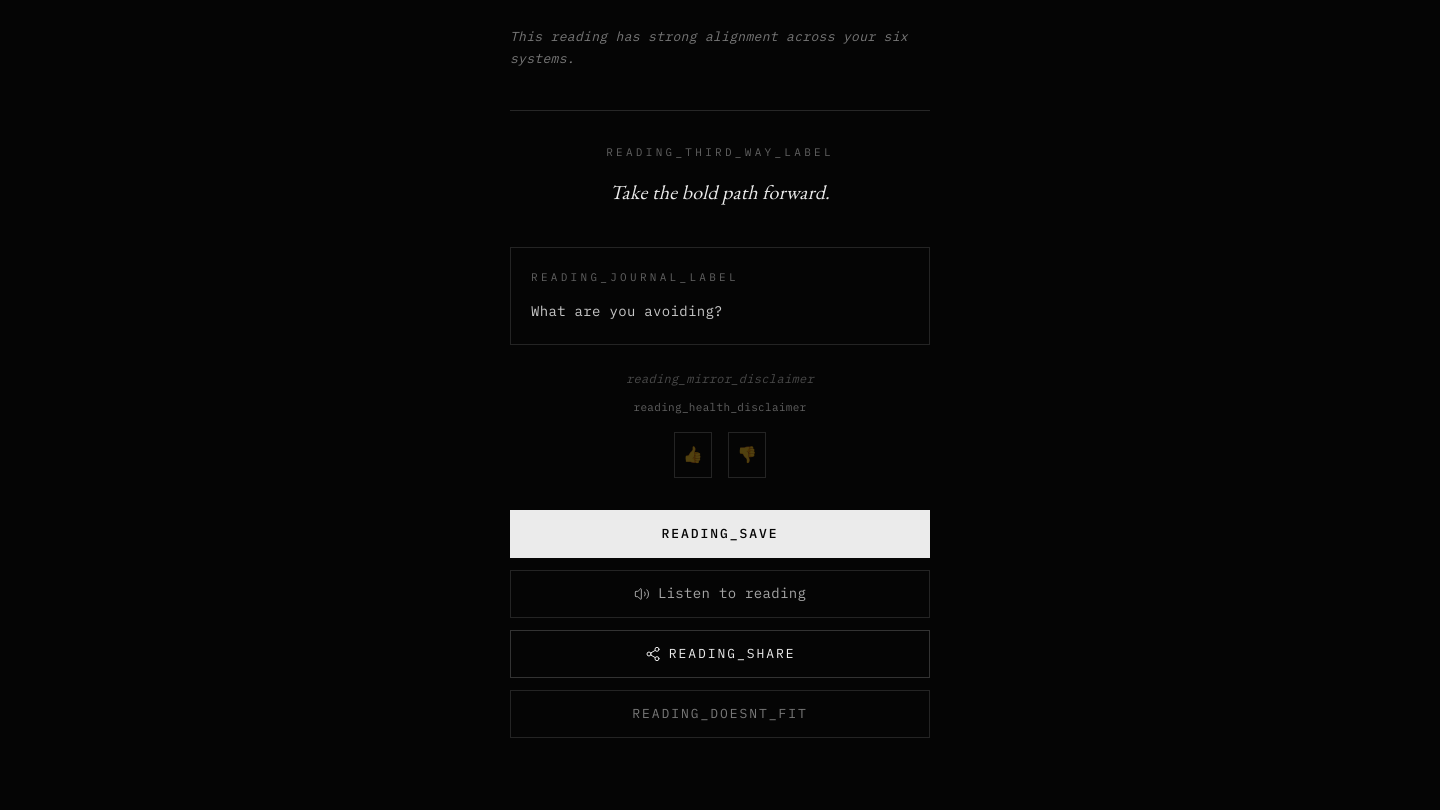
Test: Regeneration Feedback Pipeline › ReadingOutput → onRegenerate callback › closes the feedback modal after clicking Regenerate
(page scrolled)
Click the button "reading_doesnt_fit": (720, 714) [510,690,930,738]
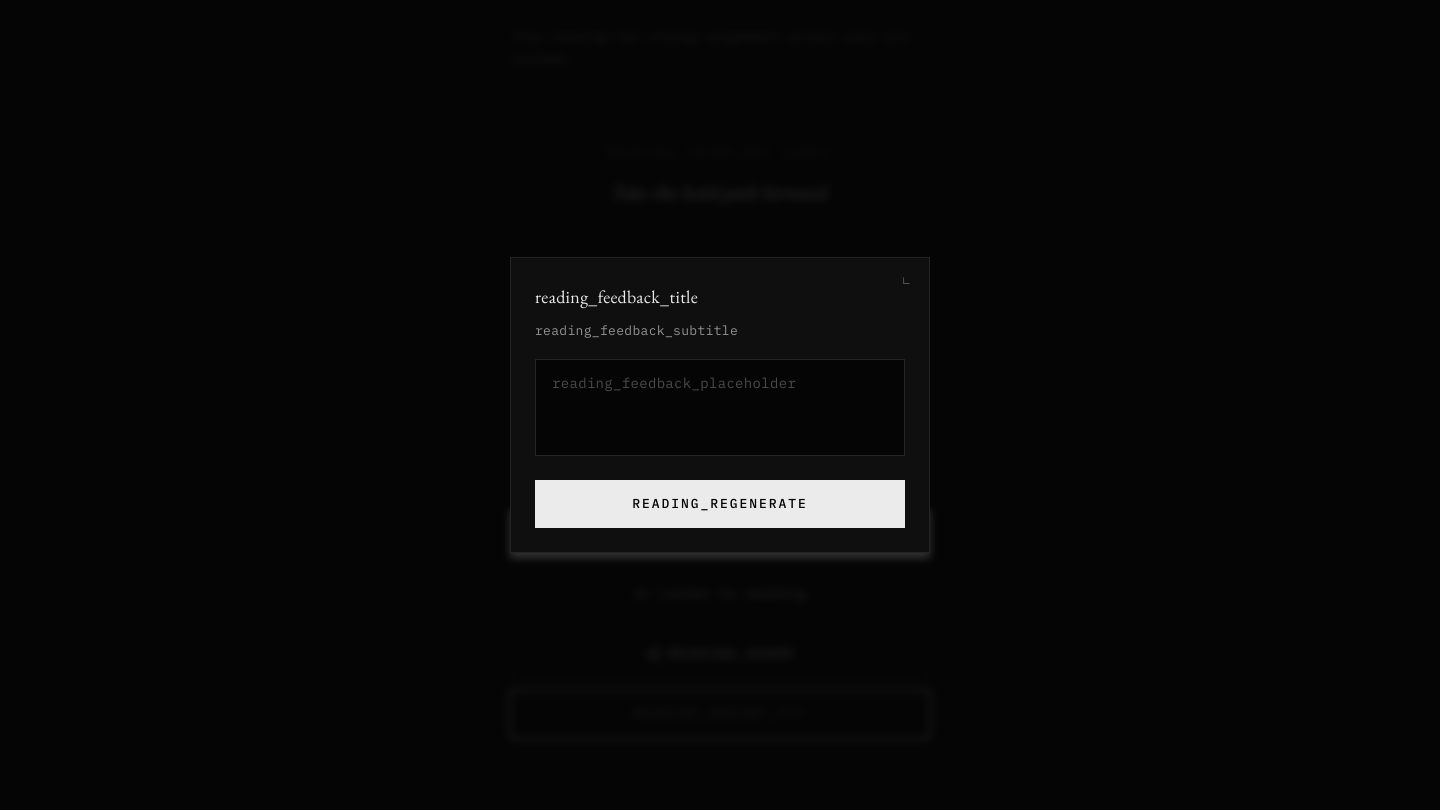
Expected: the text "reading_feedback_title" is shown, [535,285,698,308]
Click the button "reading_regenerate": (720, 504) [535,480,905,528]
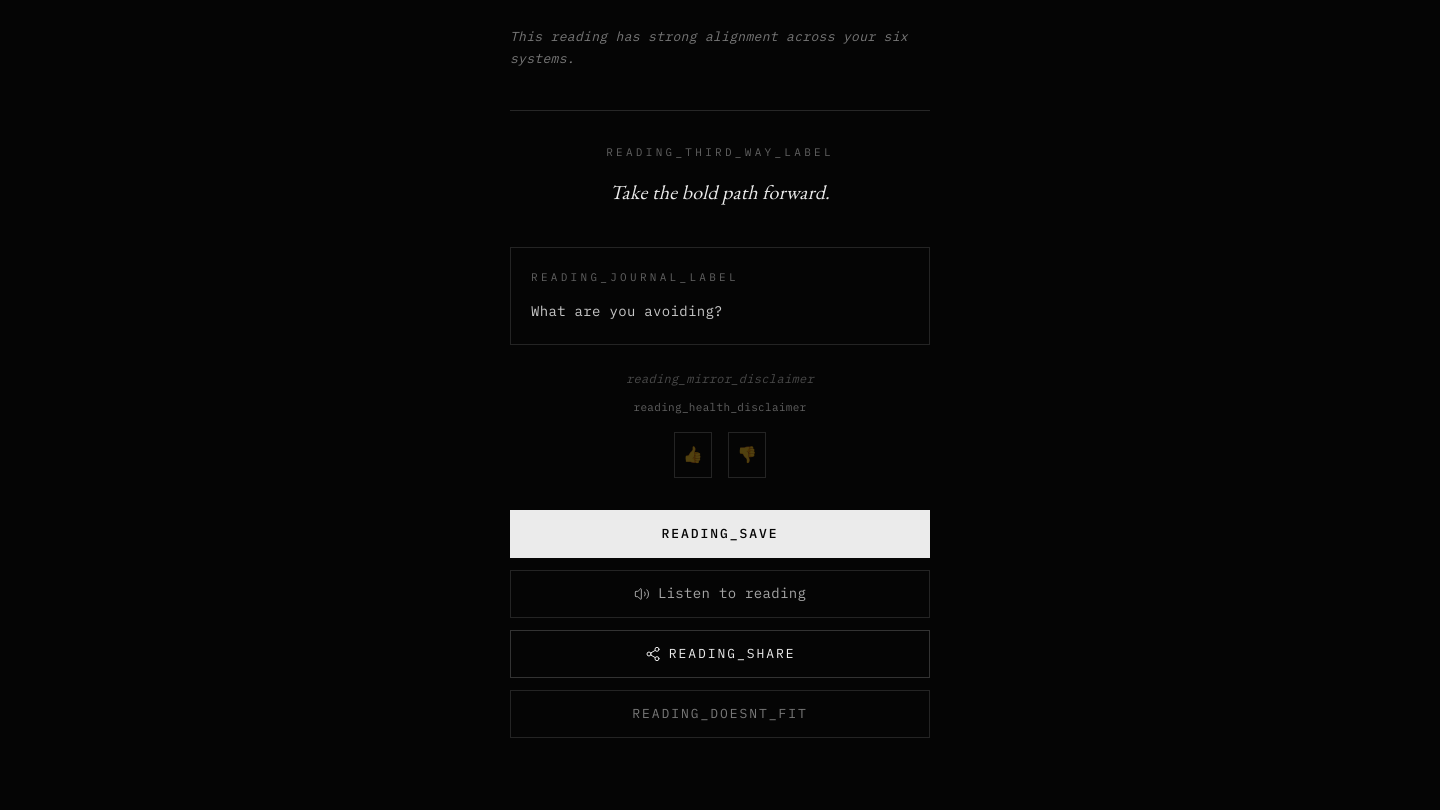
Expected: the text "reading_feedback_title" is gone
